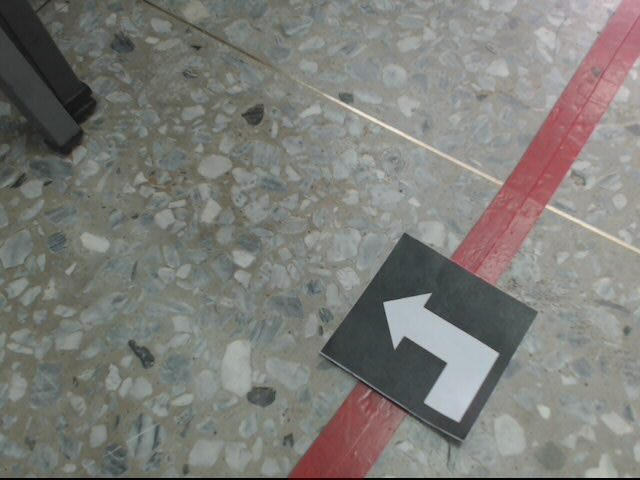left: (317, 227, 540, 444)
